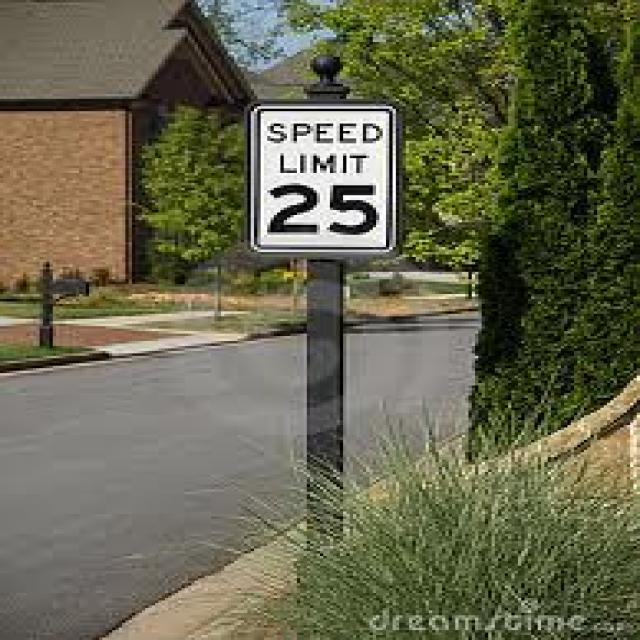regulatory: (256, 102, 394, 250)
